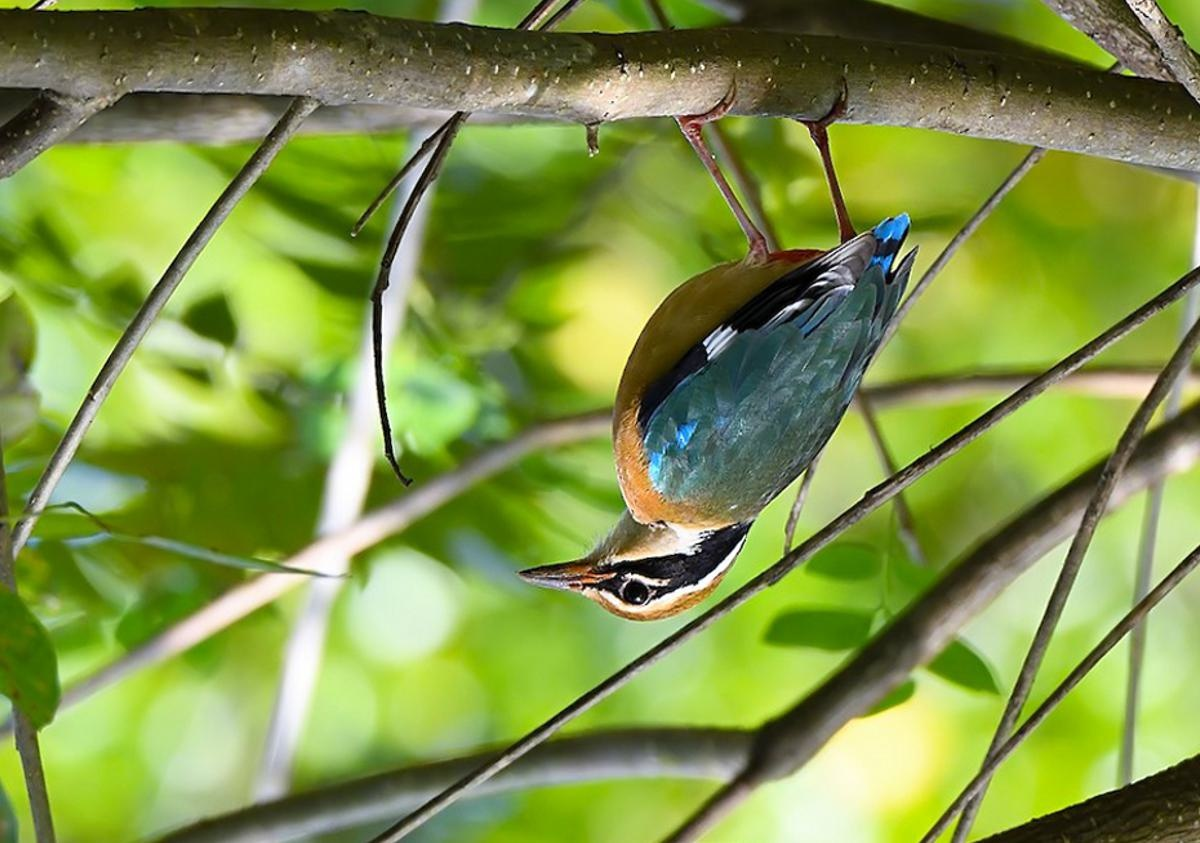pitta: (495, 52, 945, 646)
